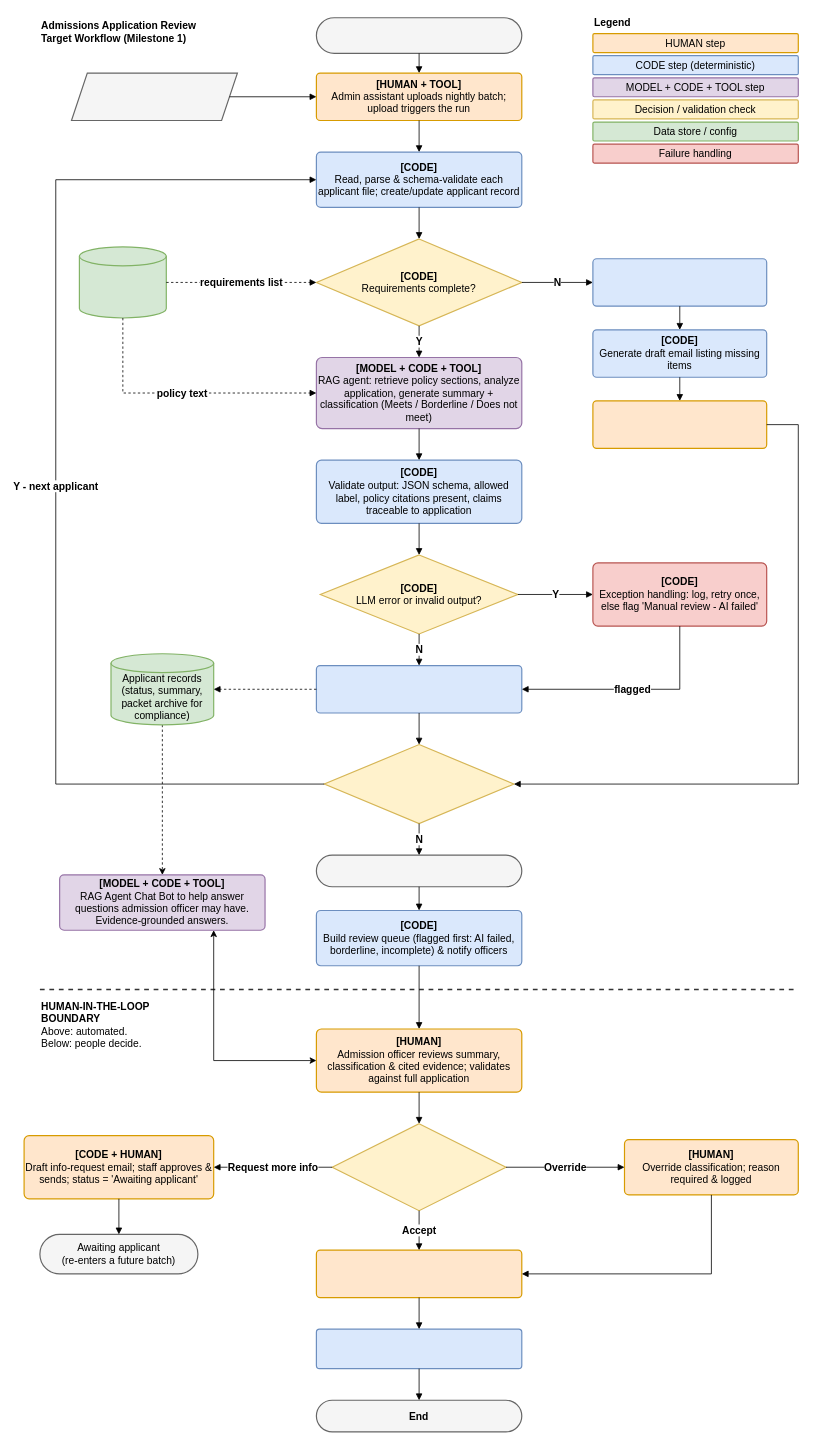
Image size: 818x1446. Some labels were removed from this diagram. Each missing label, with the box of its shape:
[CODE] More applicants in batch?: (323, 744, 514, 824)
[CODE] Record decision & audit log: (315, 1328, 522, 1369)
[CODE] Save status, summary, classification & archived packet: (315, 665, 522, 713)
[CODE] Update applicant status to 'Incomplete': (592, 258, 767, 306)
[HUMAN] Admission team makes final decision: (315, 1249, 522, 1298)
[HUMAN] Officer outcome?: (331, 1123, 506, 1211)
[HUMAN] Staff reviews & sends email (no auto-send): (592, 400, 767, 449)
Admission policy (config file): (78, 246, 167, 318)
Batch complete: (315, 854, 522, 887)
Input: Application docs, PDFs, JSONs, Images: (71, 72, 238, 121)
Start Nightly batch window: (315, 17, 522, 54)
